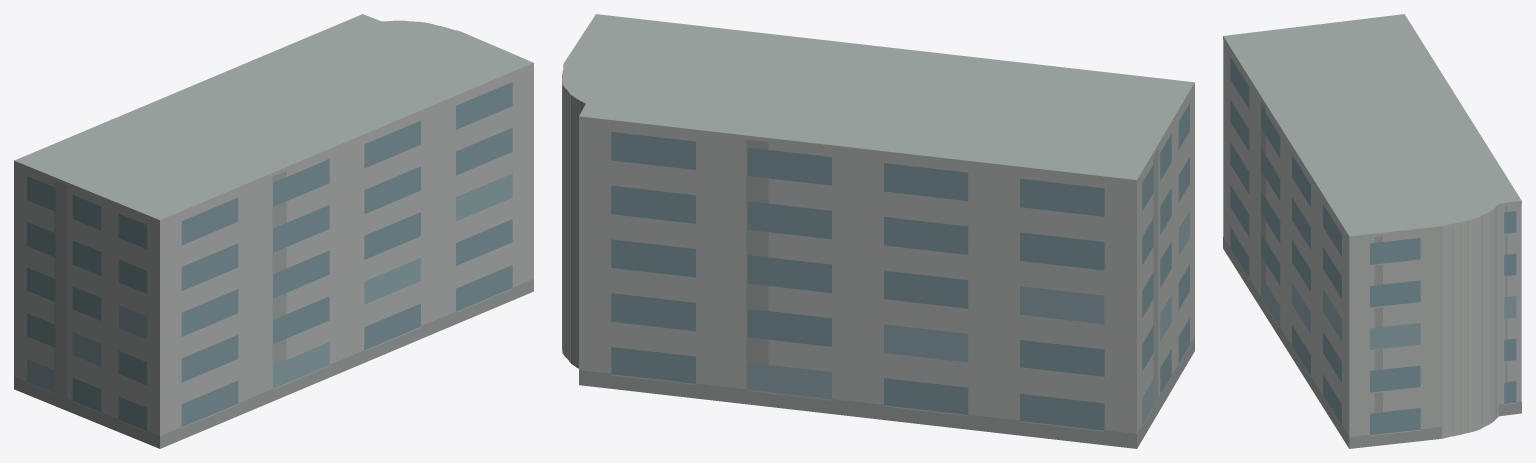
File: survey-upis-32653517.glb
3 views of the same model, side by side, from view 1: azimuth 30°, elevation 25°; view 2: azimuth 150°, elevation 25°; view 3: azimuth 270°, elevation 25° (orthographic). The views are drawn at different scales.
Visible parts, largest first — view 1: survey-upis-32653517.tmp; view 2: survey-upis-32653517.tmp; view 3: survey-upis-32653517.tmp.
Part boxes in pixels (x1=…): survey-upis-32653517.tmp: x1=14, y1=14, x2=533, y2=448; survey-upis-32653517.tmp: x1=562, y1=14, x2=1194, y2=448; survey-upis-32653517.tmp: x1=1223, y1=14, x2=1521, y2=448.
Size of the model in its own units: 34.21 by 15.25 by 19.43.
